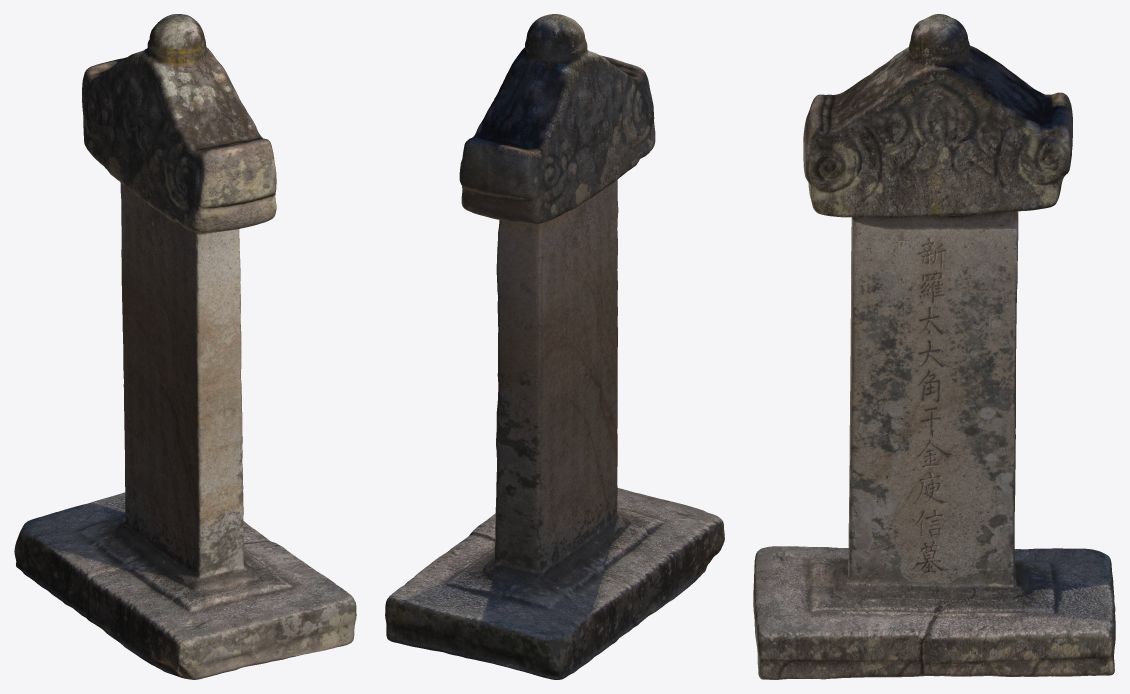
Rendered from monument_001.glb.
The picture shows the model from 3 angles, left to right: view 1: azimuth 30°, elevation 25°; view 2: azimuth 150°, elevation 25°; view 3: azimuth 270°, elevation 25°; orthographic projection. The views are drawn at different scales.
Visible parts, largest first — view 1: Object_2, Object_3; view 2: Object_2, Object_3; view 3: Object_2, Object_3.
Part boxes in pixels (x1=…): Object_2: x1=20, y1=14, x2=356, y2=678; Object_3: x1=14, y1=17, x2=354, y2=679; Object_2: x1=404, y1=14, x2=722, y2=669; Object_3: x1=385, y1=14, x2=724, y2=679; Object_2: x1=753, y1=14, x2=1115, y2=679; Object_3: x1=761, y1=14, x2=1115, y2=679.
Size of the model in its own units: 0.8119 by 2.51 by 1.34.
1 material, 1 textured.
